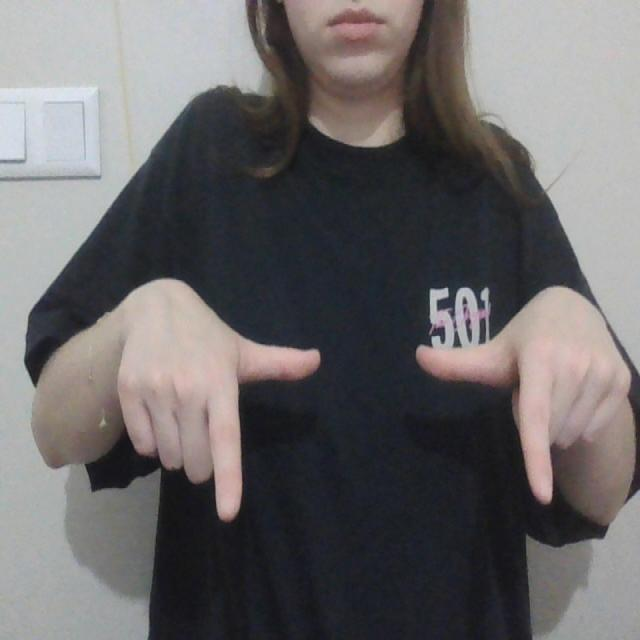Nerede: (179, 329, 566, 530)
